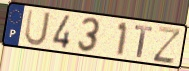1: (116, 21, 129, 58)
3: (76, 17, 102, 54)
4: (51, 14, 74, 51)
T: (134, 24, 154, 59)
U: (23, 8, 52, 47)
Z: (151, 25, 183, 65)
